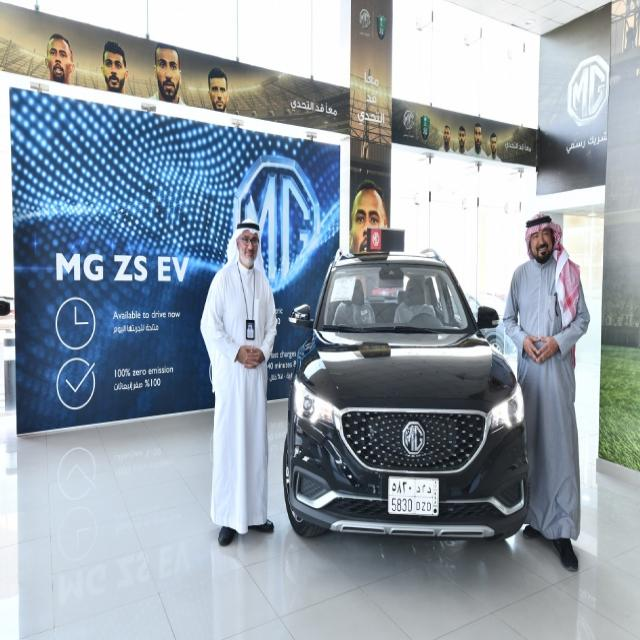license_plate: (387, 476, 441, 517)
